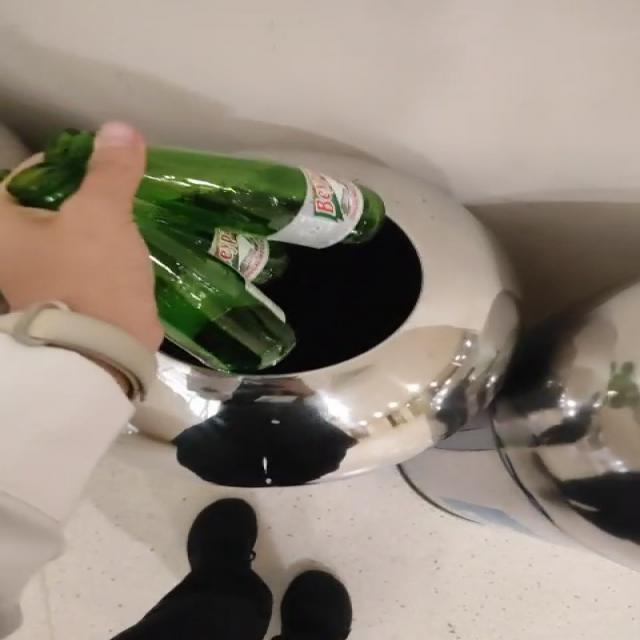bin: (133, 150, 519, 488)
glass: (133, 148, 385, 373), (5, 131, 91, 209)
